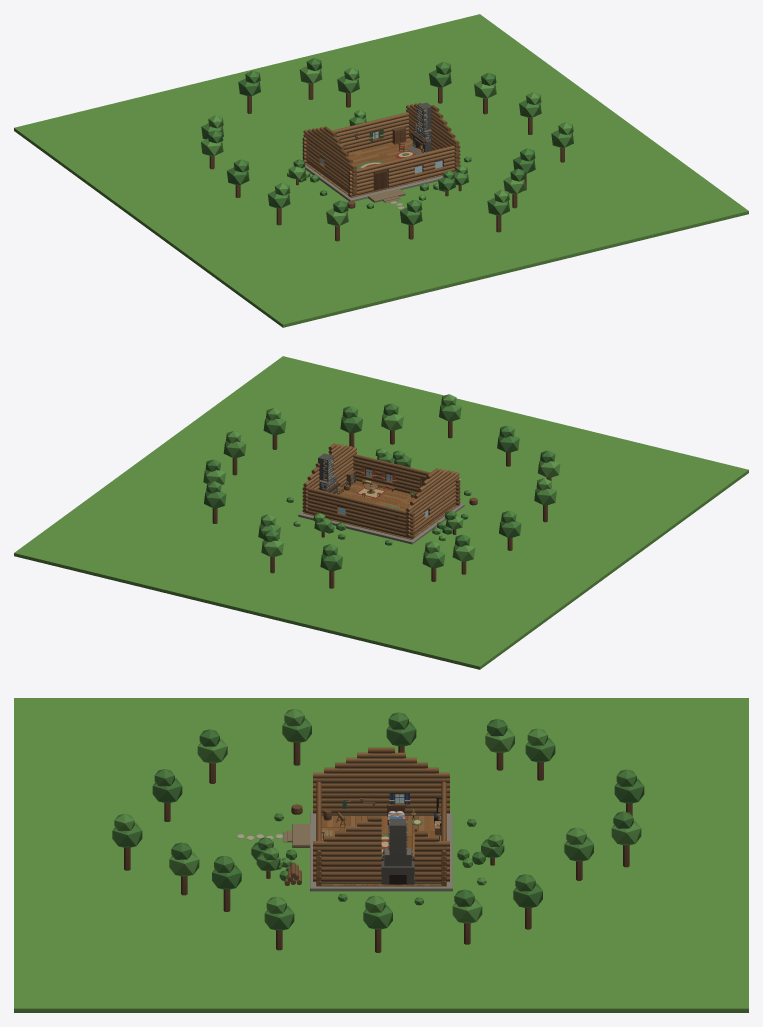
The model's file is Ville_Interior_Lodge.glb.
3 views of the same model, one above another, from view 1: azimuth 30°, elevation 25°; view 2: azimuth 150°, elevation 25°; view 3: azimuth 270°, elevation 25° (orthographic). The views are drawn at different scales.
Visible parts, largest first — view 1: Backdrop, Wall_Front, Wall_Left, Wall_Back, Wall_Right, Interior_Core; view 2: Backdrop, Wall_Back, Wall_Left, Wall_Right, Wall_Front, Interior_Core; view 3: Backdrop, Wall_Left, Wall_Right, Interior_Core, Wall_Back, Wall_Front.
Part boxes in pixels (x1,y1,x2,y2): Backdrop: (14, 14, 748, 327); Wall_Front: (348, 144, 460, 196); Wall_Left: (303, 126, 356, 195); Wall_Back: (302, 112, 409, 163); Wall_Right: (406, 102, 459, 169); Interior_Core: (305, 138, 456, 197); Backdrop: (14, 356, 748, 669); Wall_Back: (302, 486, 414, 538); Wall_Left: (406, 468, 459, 537); Wall_Right: (303, 443, 356, 512); Wall_Front: (353, 454, 460, 505); Interior_Core: (303, 480, 458, 539); Backdrop: (14, 698, 748, 1012); Wall_Left: (313, 747, 449, 820); Wall_Right: (313, 816, 449, 884); Interior_Core: (316, 811, 446, 886); Wall_Back: (433, 781, 446, 886); Wall_Front: (316, 781, 324, 886).
Bounding box in the file's own units: 80 × 9.06 × 80.
